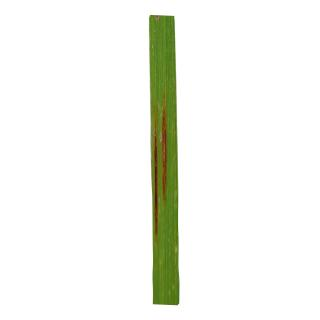Bercak-Cokelat-Sempit: (148, 101, 162, 239), (160, 102, 172, 206)
